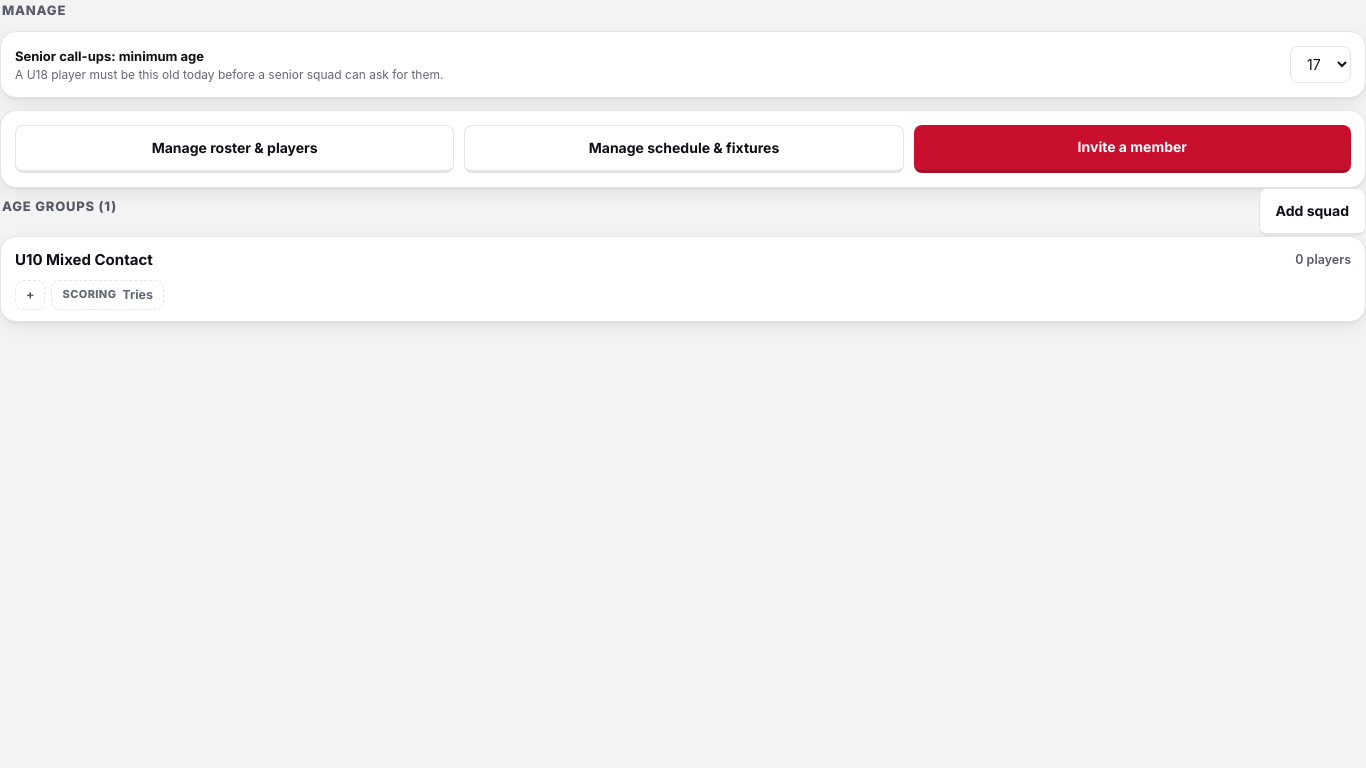
Scenario: AdminClub — add a squad › saves the four values, reloads the squads, and closes the sheet
Click the button "Add squad" at (1312,212), box [1259,188,1365,236]
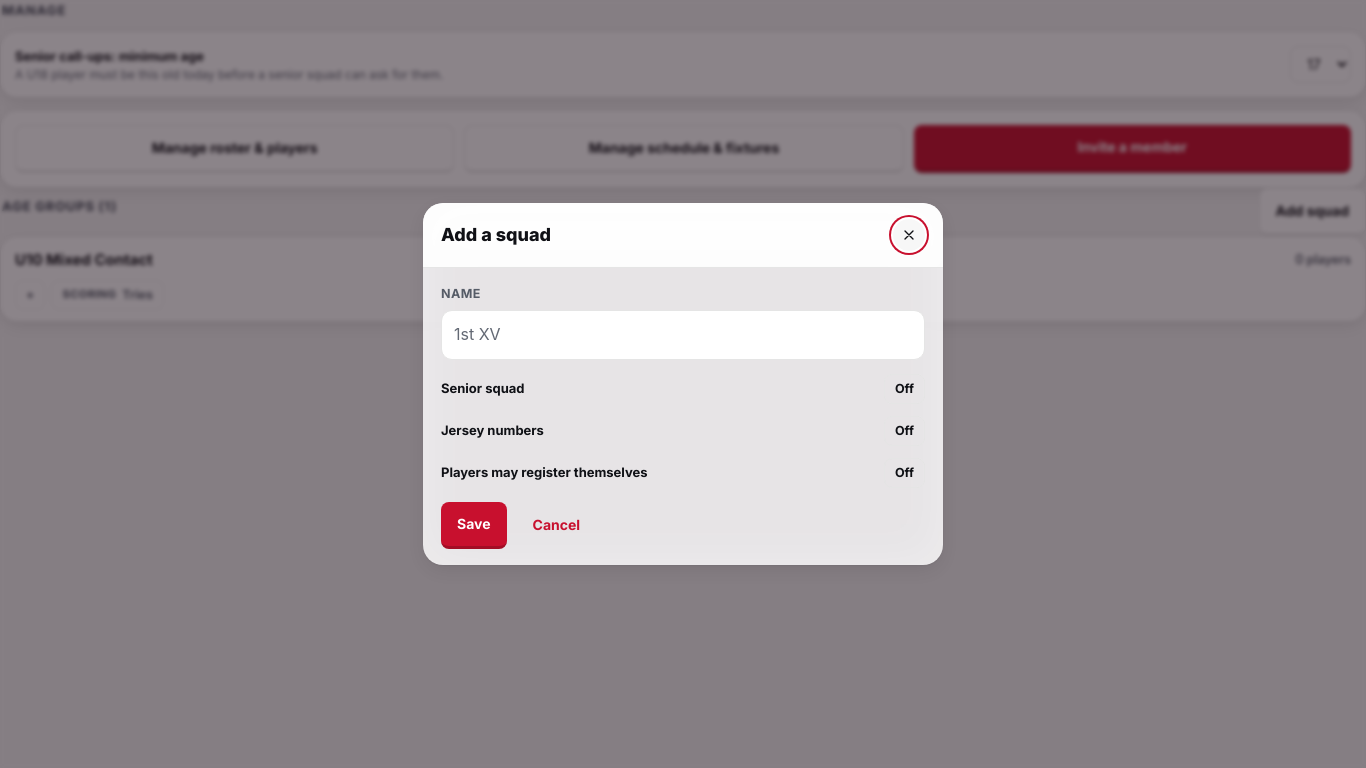
Type "Harness Senior A" into the field named "Squad name" at (683,335), box [441,310,925,360]
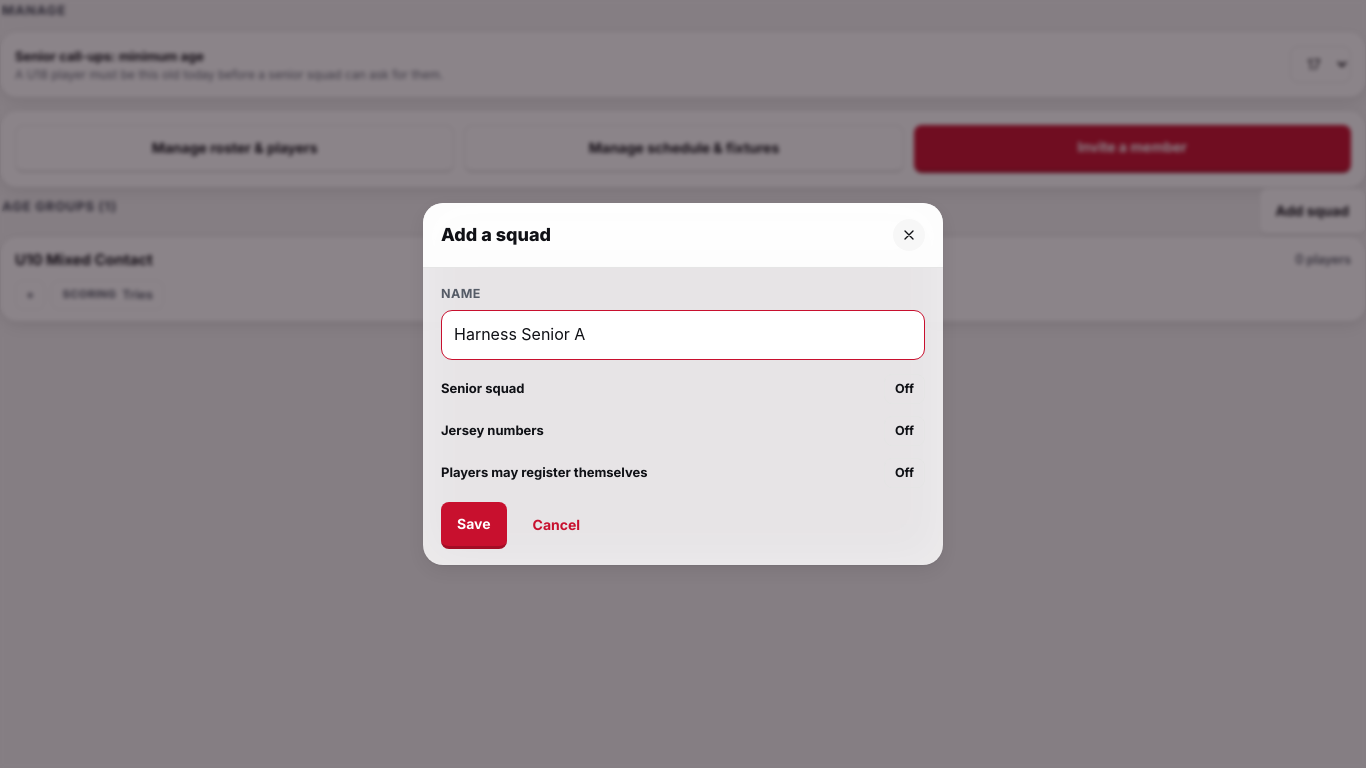
Click the switch named "Senior squad" at (904,389), box [884,374,925,404]
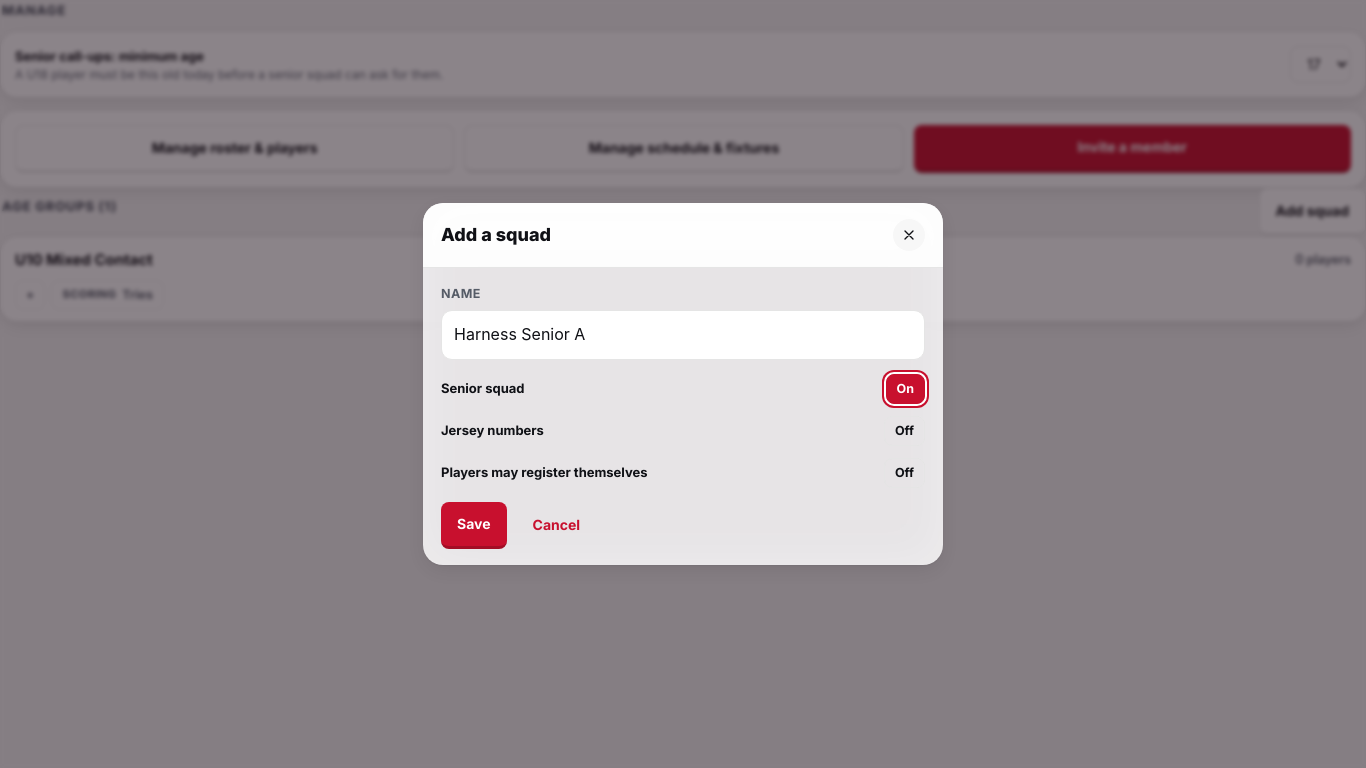
Click the switch named "Jersey numbers" at (904,431), box [884,416,925,446]
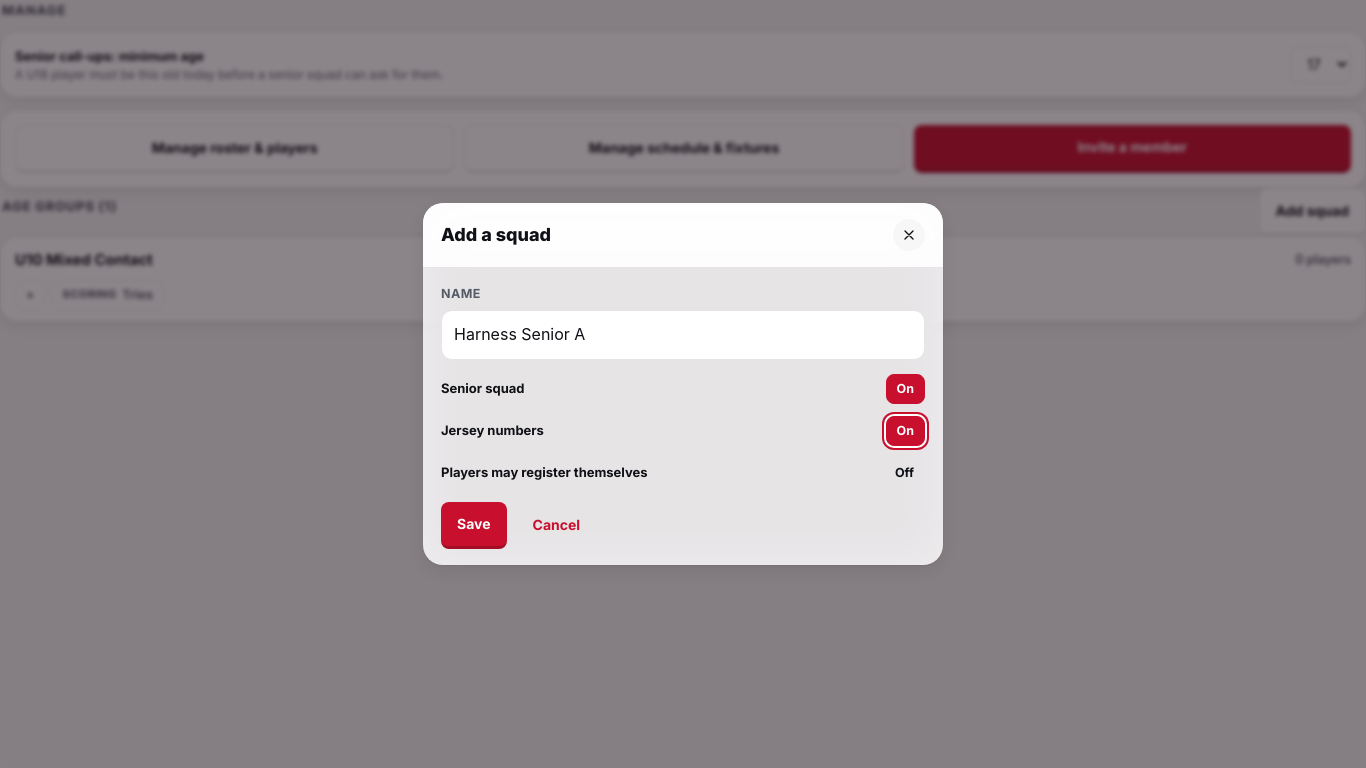
Click the switch named "Players may register themselves" at (904,473), box [884,458,925,488]
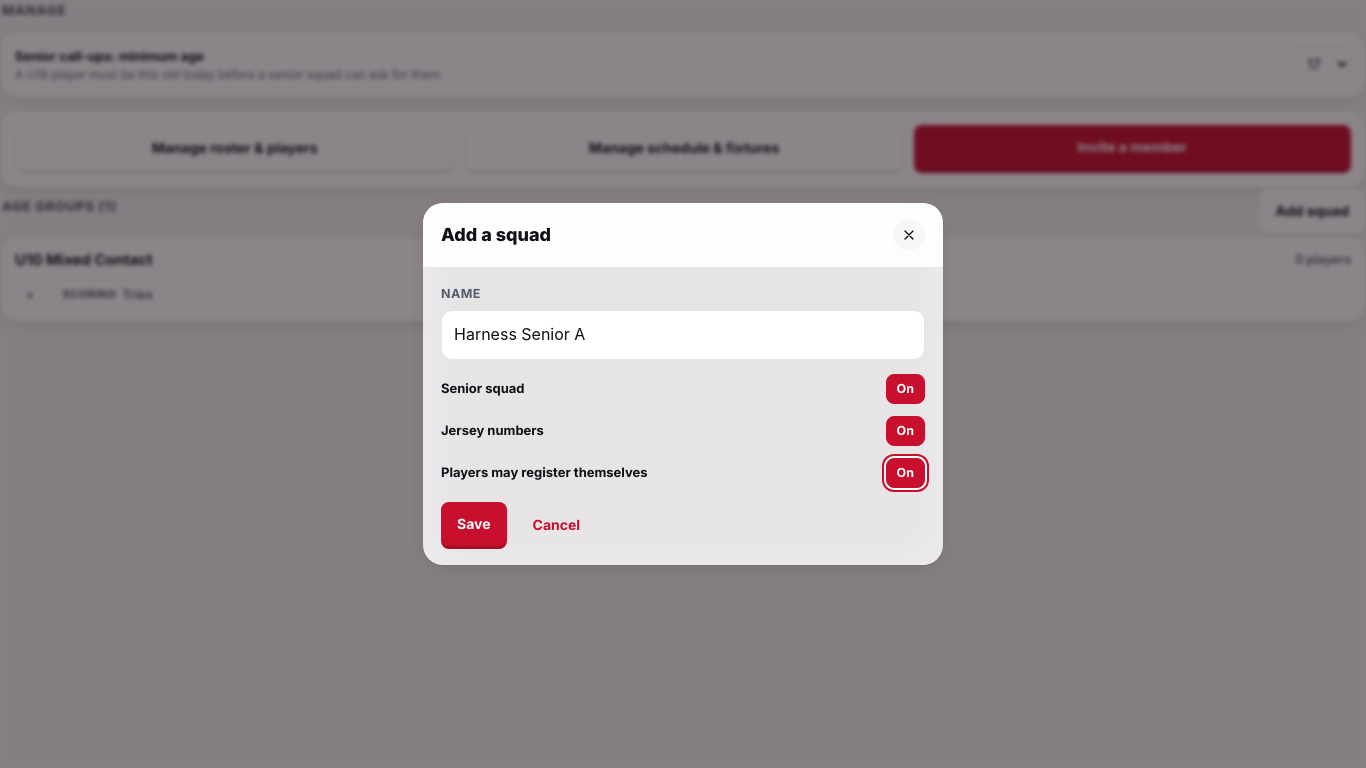
Click the button "Save" at (474,525), box [441,502,506,549]
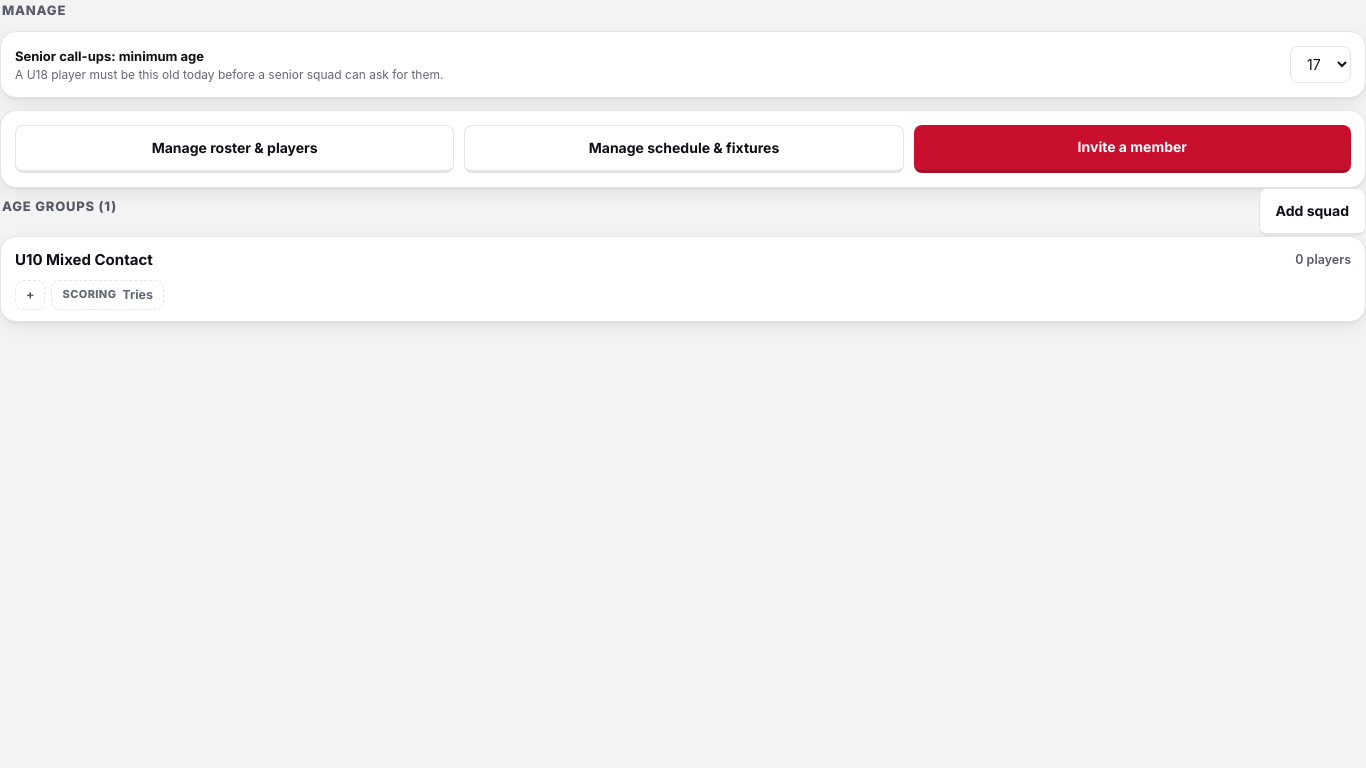
Result: the heading "Add a squad" is gone
